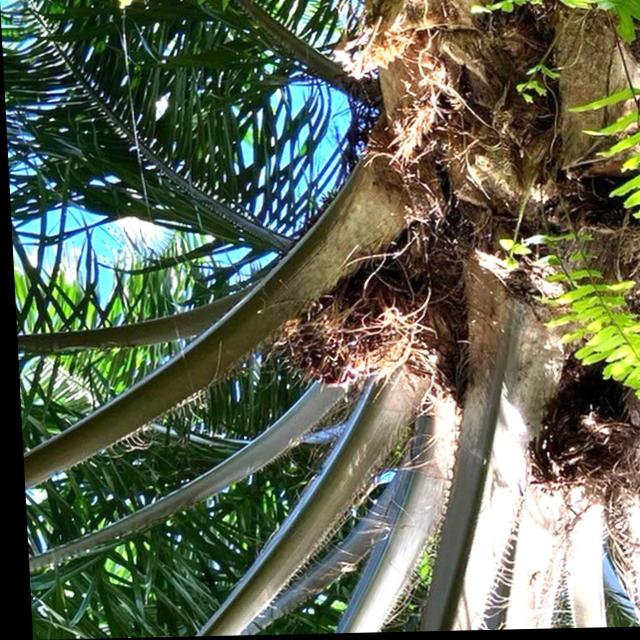ripe: (276, 279, 402, 392)
